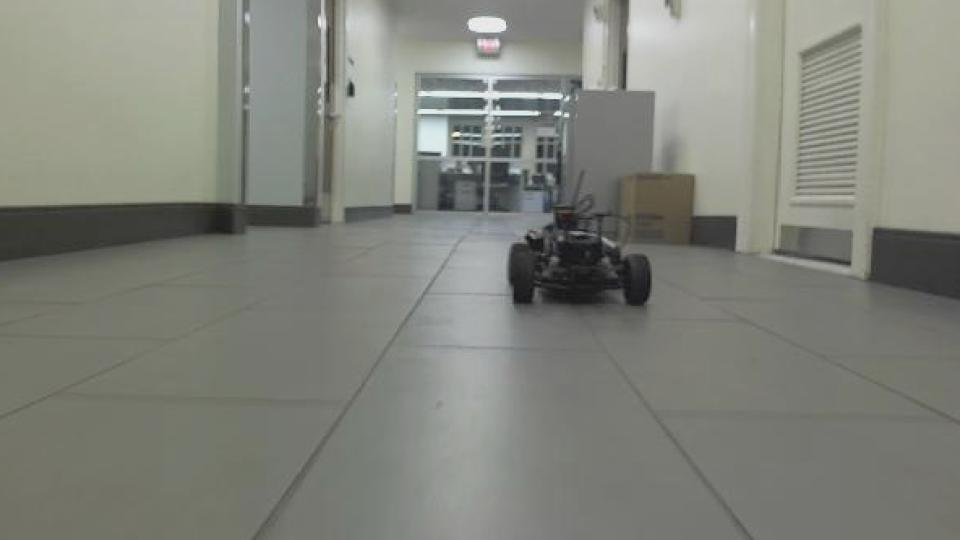car: (503, 168, 655, 310)
